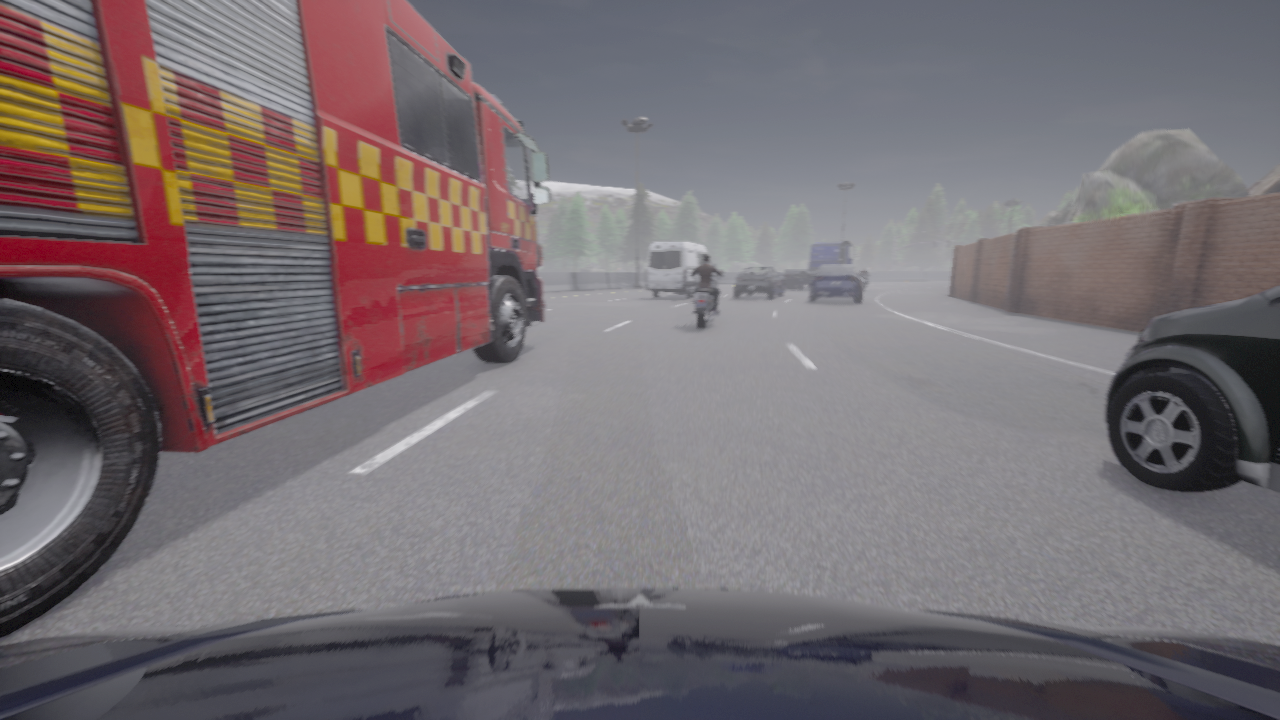cyclist: (0, 588, 1279, 719), (1105, 286, 1279, 493), (646, 241, 716, 298), (782, 240, 857, 289), (810, 265, 864, 302), (691, 268, 719, 329), (734, 266, 784, 298), (858, 272, 872, 290)
